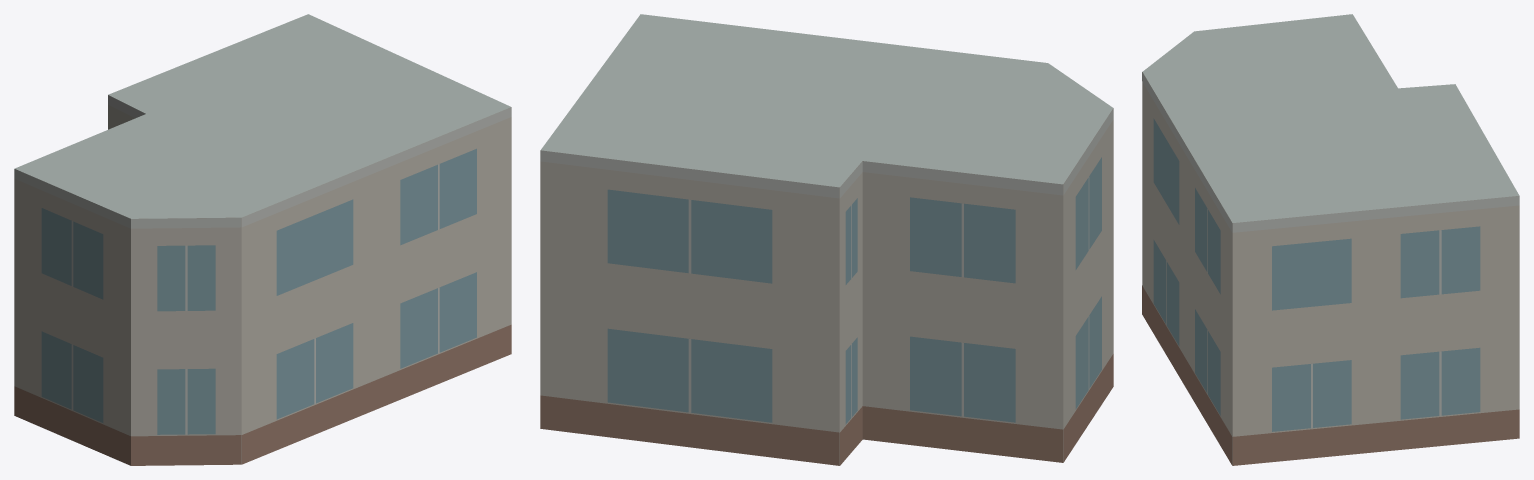
The model's file is survey-upis-32696058.glb.
3 views of the same model, side by side, from view 1: azimuth 30°, elevation 25°; view 2: azimuth 150°, elevation 25°; view 3: azimuth 270°, elevation 25° (orthographic). The views are drawn at different scales.
Parts seen in each view (by area): view 1: survey-upis-32696058.tmp; view 2: survey-upis-32696058.tmp; view 3: survey-upis-32696058.tmp.
Part boxes in pixels (x1,y1,x2,y2): survey-upis-32696058.tmp: (14, 14, 511, 465); survey-upis-32696058.tmp: (540, 14, 1113, 465); survey-upis-32696058.tmp: (1142, 14, 1519, 465).
Size of the model in its own units: 11.28 by 6.1 by 8.6.
